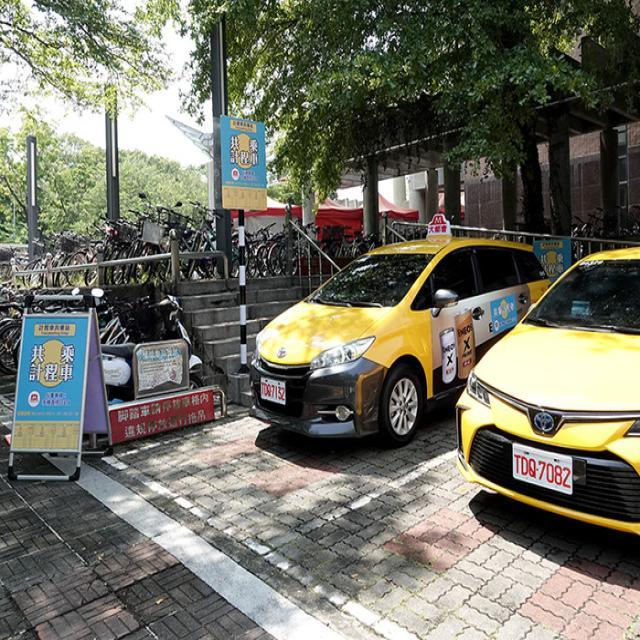Door: (456, 250, 640, 533)
Taxi: (250, 236, 550, 445)
